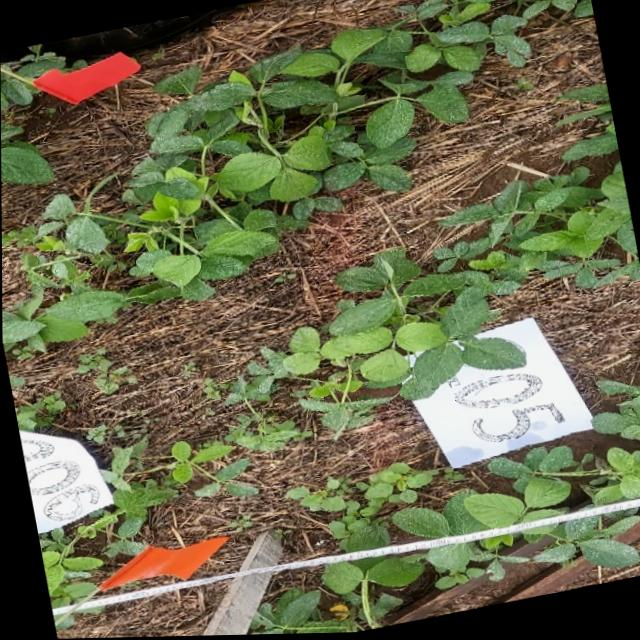caruru_weed: (286, 464, 435, 541), (14, 348, 135, 427), (72, 407, 150, 445), (199, 380, 229, 402), (172, 364, 195, 382)
soy_plant: (2, 0, 592, 350), (223, 166, 640, 452), (248, 519, 636, 636), (37, 441, 252, 607), (432, 384, 640, 536), (424, 512, 637, 591), (390, 479, 569, 540), (0, 44, 64, 108), (568, 87, 618, 161), (1, 123, 51, 184), (338, 526, 386, 553)
